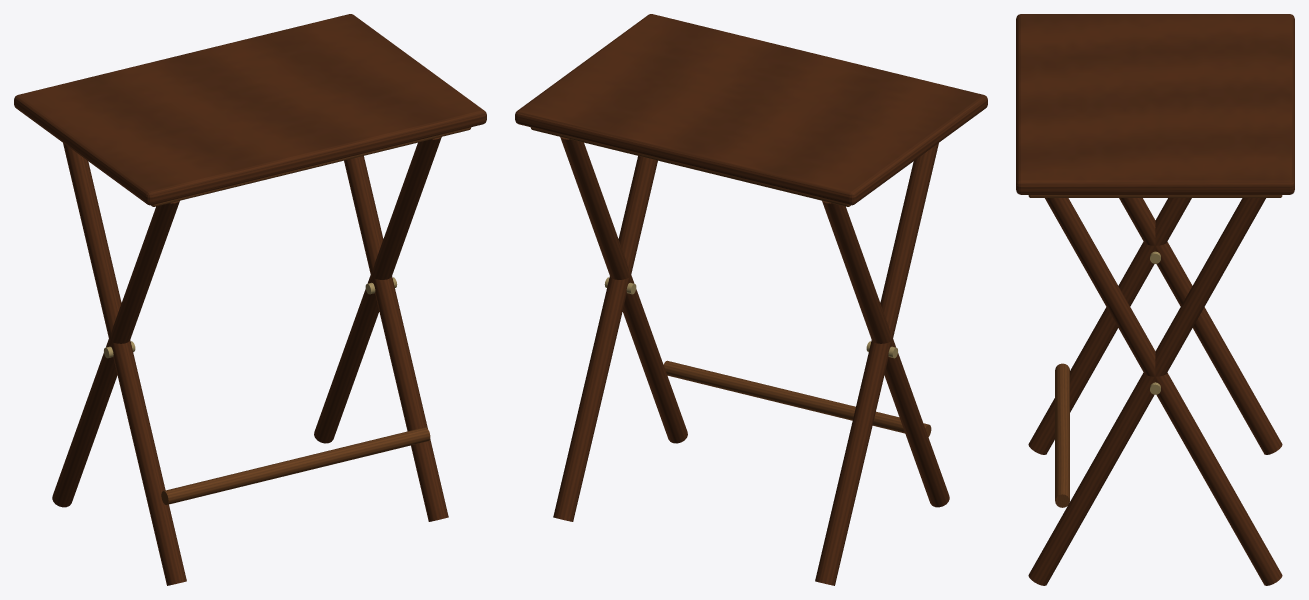
Rendered from side-table.glb.
3 views of the same model, side by side, from view 1: azimuth 30°, elevation 25°; view 2: azimuth 150°, elevation 25°; view 3: azimuth 270°, elevation 25° (orthographic). The views are drawn at different scales.
Visible parts, largest first — view 1: TableTop, FoldingLeg, FoldingLeg.002, FoldingLeg.003, FoldingLeg.001, Brace, TableEdge; view 2: TableTop, FoldingLeg.001, FoldingLeg.003, FoldingLeg.002, FoldingLeg, Brace, TableEdge; view 3: TableTop, FoldingLeg.003, FoldingLeg.002, FoldingLeg.001, FoldingLeg, Brace, TableEdge.
Part boxes in pixels (x1,y1,x2,y2): TableTop: (14, 14, 486, 205); FoldingLeg: (63, 143, 186, 585); FoldingLeg.002: (344, 156, 448, 521); FoldingLeg.003: (314, 137, 441, 443); FoldingLeg.001: (52, 200, 179, 507); Brace: (161, 427, 430, 504); TableEdge: (151, 127, 471, 206); TableTop: (515, 14, 987, 205); FoldingLeg.001: (815, 143, 938, 585); FoldingLeg.003: (553, 156, 657, 521); FoldingLeg.002: (560, 137, 687, 443); FoldingLeg: (822, 200, 949, 507); Brace: (663, 360, 931, 436); TableEdge: (530, 127, 850, 206); TableTop: (1016, 14, 1294, 194); FoldingLeg.003: (1045, 198, 1282, 585); FoldingLeg.002: (1028, 198, 1265, 585); FoldingLeg.001: (1119, 198, 1282, 454); FoldingLeg: (1028, 198, 1191, 454); Brace: (1055, 363, 1069, 507); TableEdge: (1028, 195, 1282, 197).
Bounding box in the file's own units: 0.65 × 0.7503 × 0.45.
3 materials, 2 textured.
